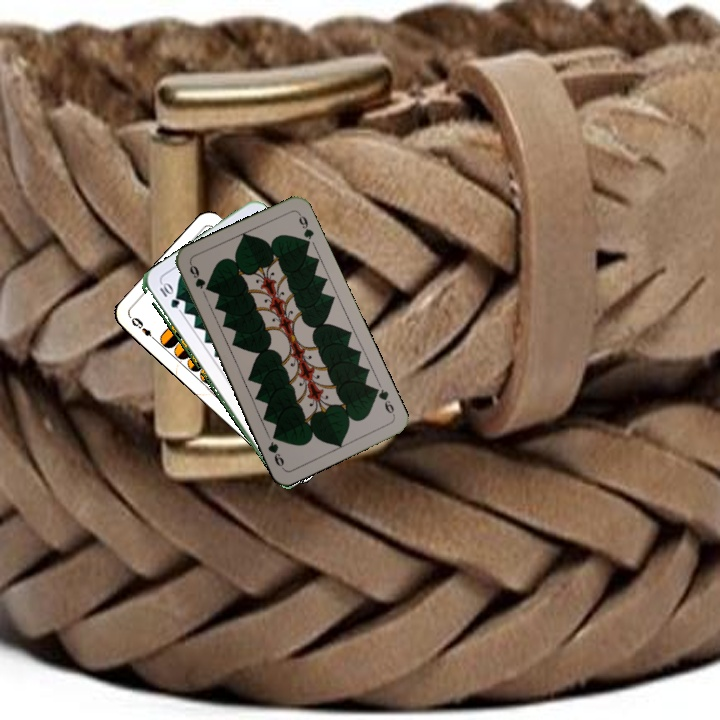E9: (127, 313, 159, 344)
G10: (155, 279, 181, 311)
G9: (369, 383, 397, 419), (185, 260, 208, 291)
